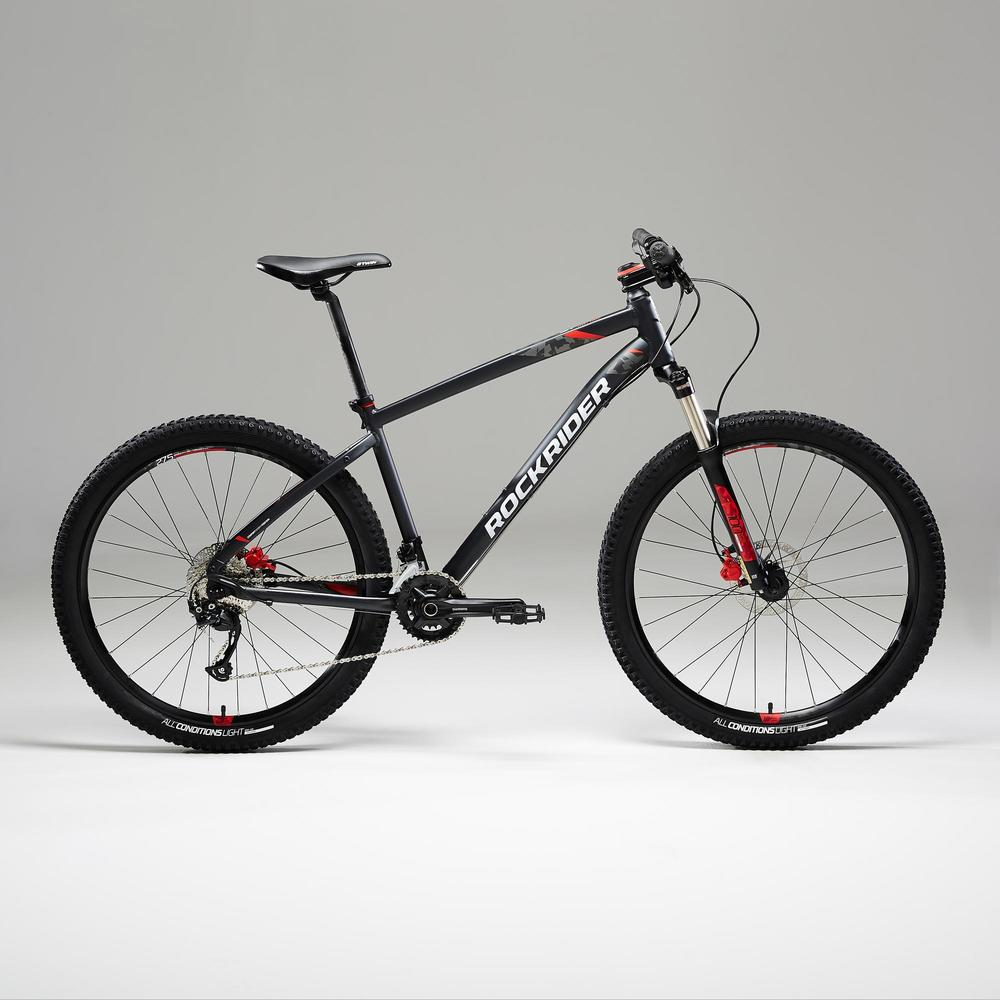MountainBike: (48, 213, 926, 760)
